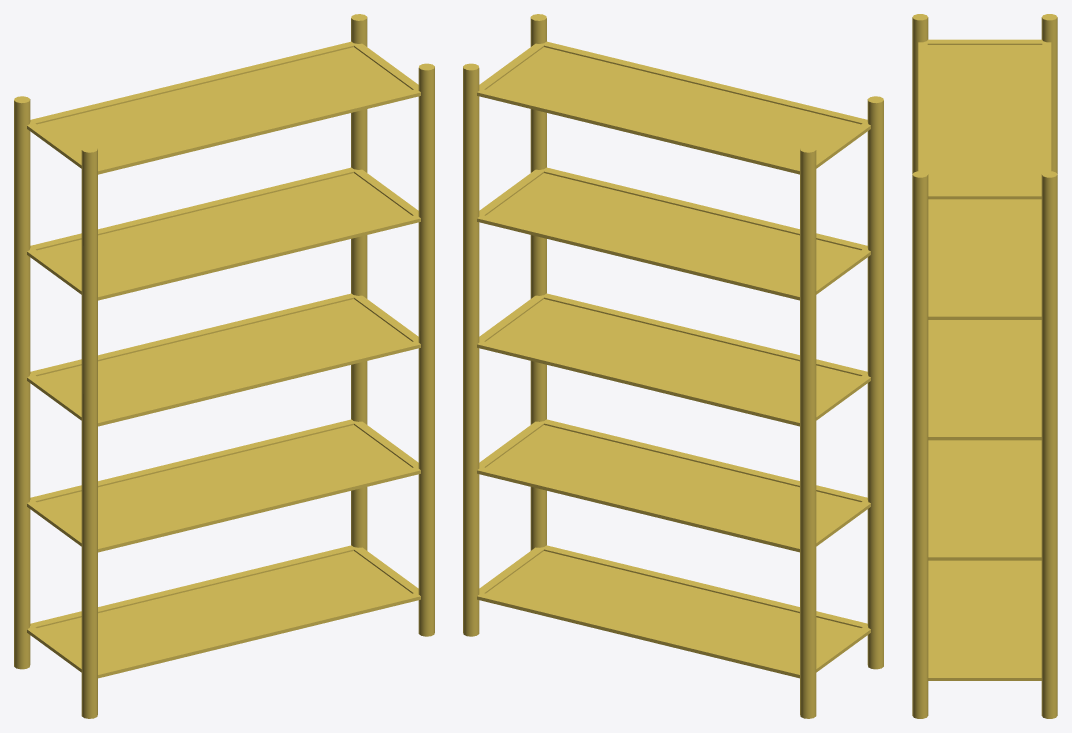
3 renders of one model, left to right at view 1: azimuth 30°, elevation 25°; view 2: azimuth 150°, elevation 25°; view 3: azimuth 270°, elevation 25°, orthographic. The views are drawn at different scales.
Parts seen in each view (by area): view 1: eb_metal_shelf_01_eb_metal_shelf_01; view 2: eb_metal_shelf_01_eb_metal_shelf_01; view 3: eb_metal_shelf_01_eb_metal_shelf_01.
Part boxes in pixels (x1=…): eb_metal_shelf_01_eb_metal_shelf_01: x1=14, y1=14, x2=434, y2=718; eb_metal_shelf_01_eb_metal_shelf_01: x1=463, y1=14, x2=883, y2=718; eb_metal_shelf_01_eb_metal_shelf_01: x1=912, y1=14, x2=1057, y2=718.
Size of the model in its own units: 104 by 161 by 39.
